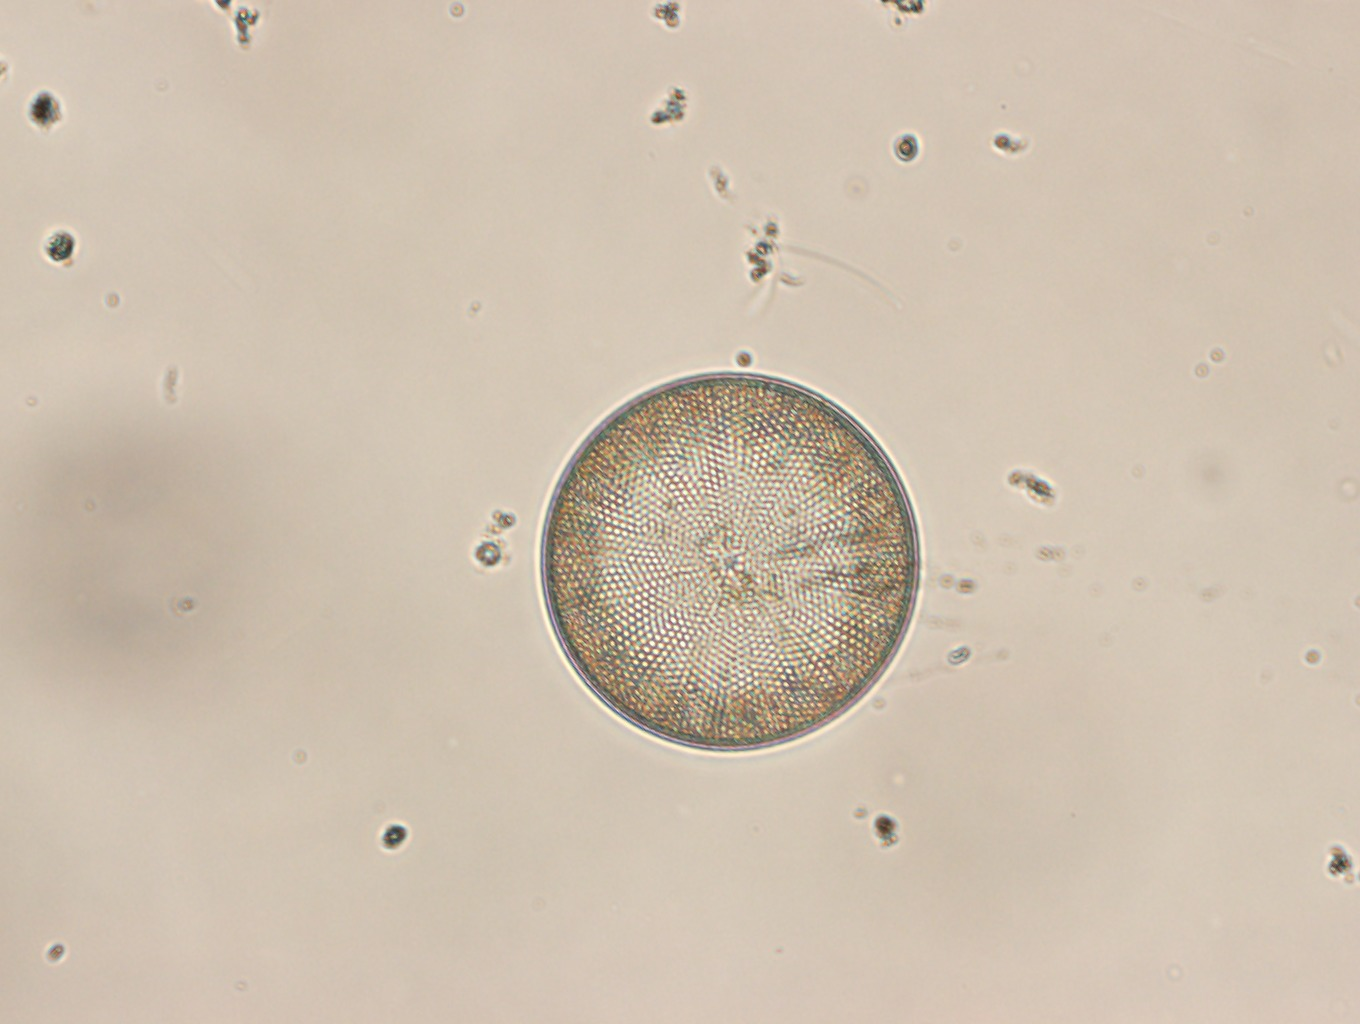coscinodiscus: (536, 371, 924, 756)
